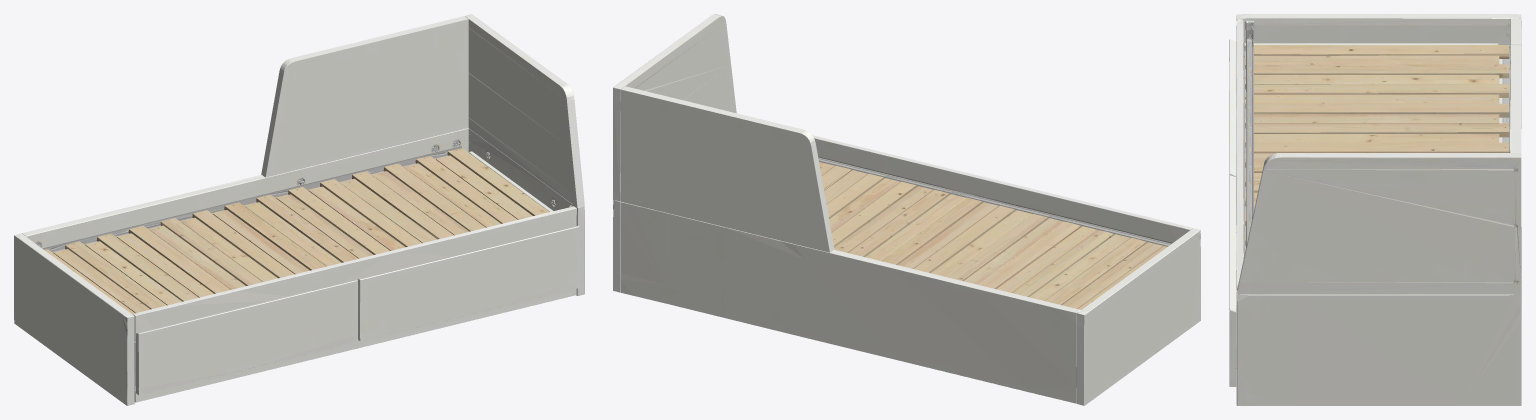
3 renders of one model, left to right at view 1: azimuth 30°, elevation 25°; view 2: azimuth 150°, elevation 25°; view 3: azimuth 270°, elevation 25°, orthographic. The views are drawn at different scales.
Parts seen in each view (by area): view 1: model_NODE_ID_cdaaf055-70e8-4597-9465-174ff428dd92; view 2: model_NODE_ID_cdaaf055-70e8-4597-9465-174ff428dd92; view 3: model_NODE_ID_cdaaf055-70e8-4597-9465-174ff428dd92.
Boxes of the visible parts, bbox=[...] form: model_NODE_ID_cdaaf055-70e8-4597-9465-174ff428dd92: bbox=[14, 14, 584, 405]; model_NODE_ID_cdaaf055-70e8-4597-9465-174ff428dd92: bbox=[613, 14, 1200, 405]; model_NODE_ID_cdaaf055-70e8-4597-9465-174ff428dd92: bbox=[1229, 14, 1521, 405].
Bounding box in the file's own units: 2.07 × 0.86 × 0.91.
Materials: 1 (1 with a texture image).
